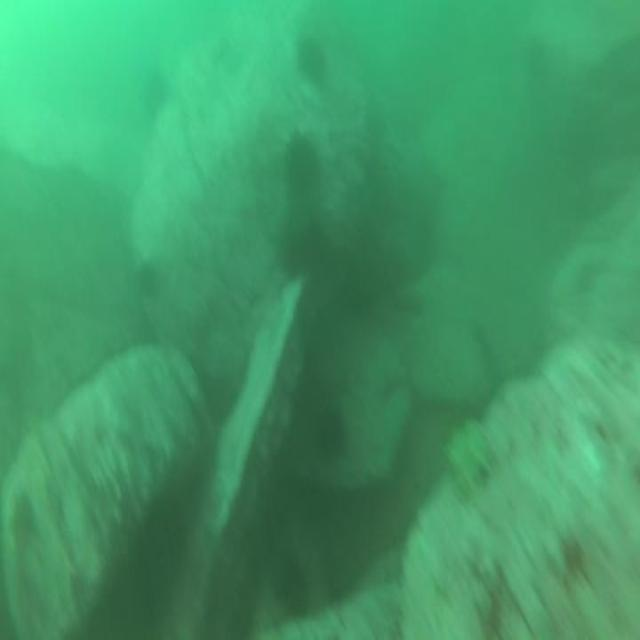echinus: (269, 210, 329, 283), (281, 128, 321, 210), (271, 550, 311, 619), (292, 28, 330, 98), (312, 400, 350, 466), (140, 65, 172, 125), (130, 256, 162, 302)
holothurian: (443, 412, 496, 497)
starfish: (4, 493, 40, 574)
